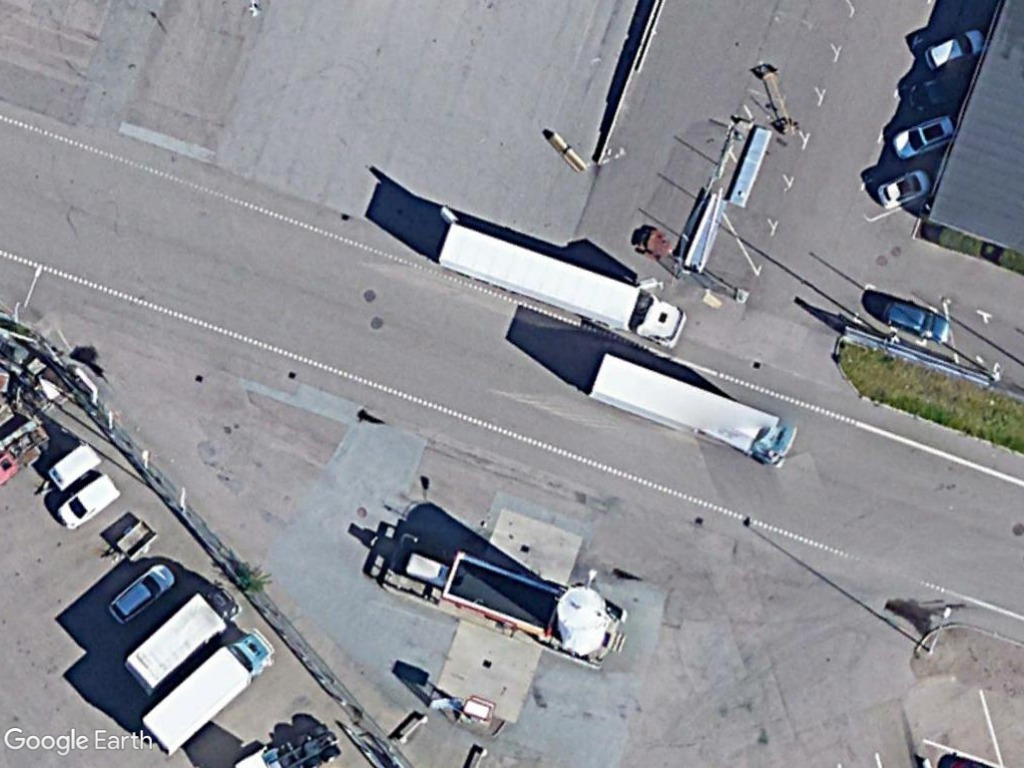car: (98, 560, 181, 630), (887, 113, 958, 159), (922, 24, 989, 72), (874, 168, 932, 212)
longvehicle: (432, 220, 693, 352)
truck: (133, 621, 281, 759)
van: (50, 471, 123, 534)
